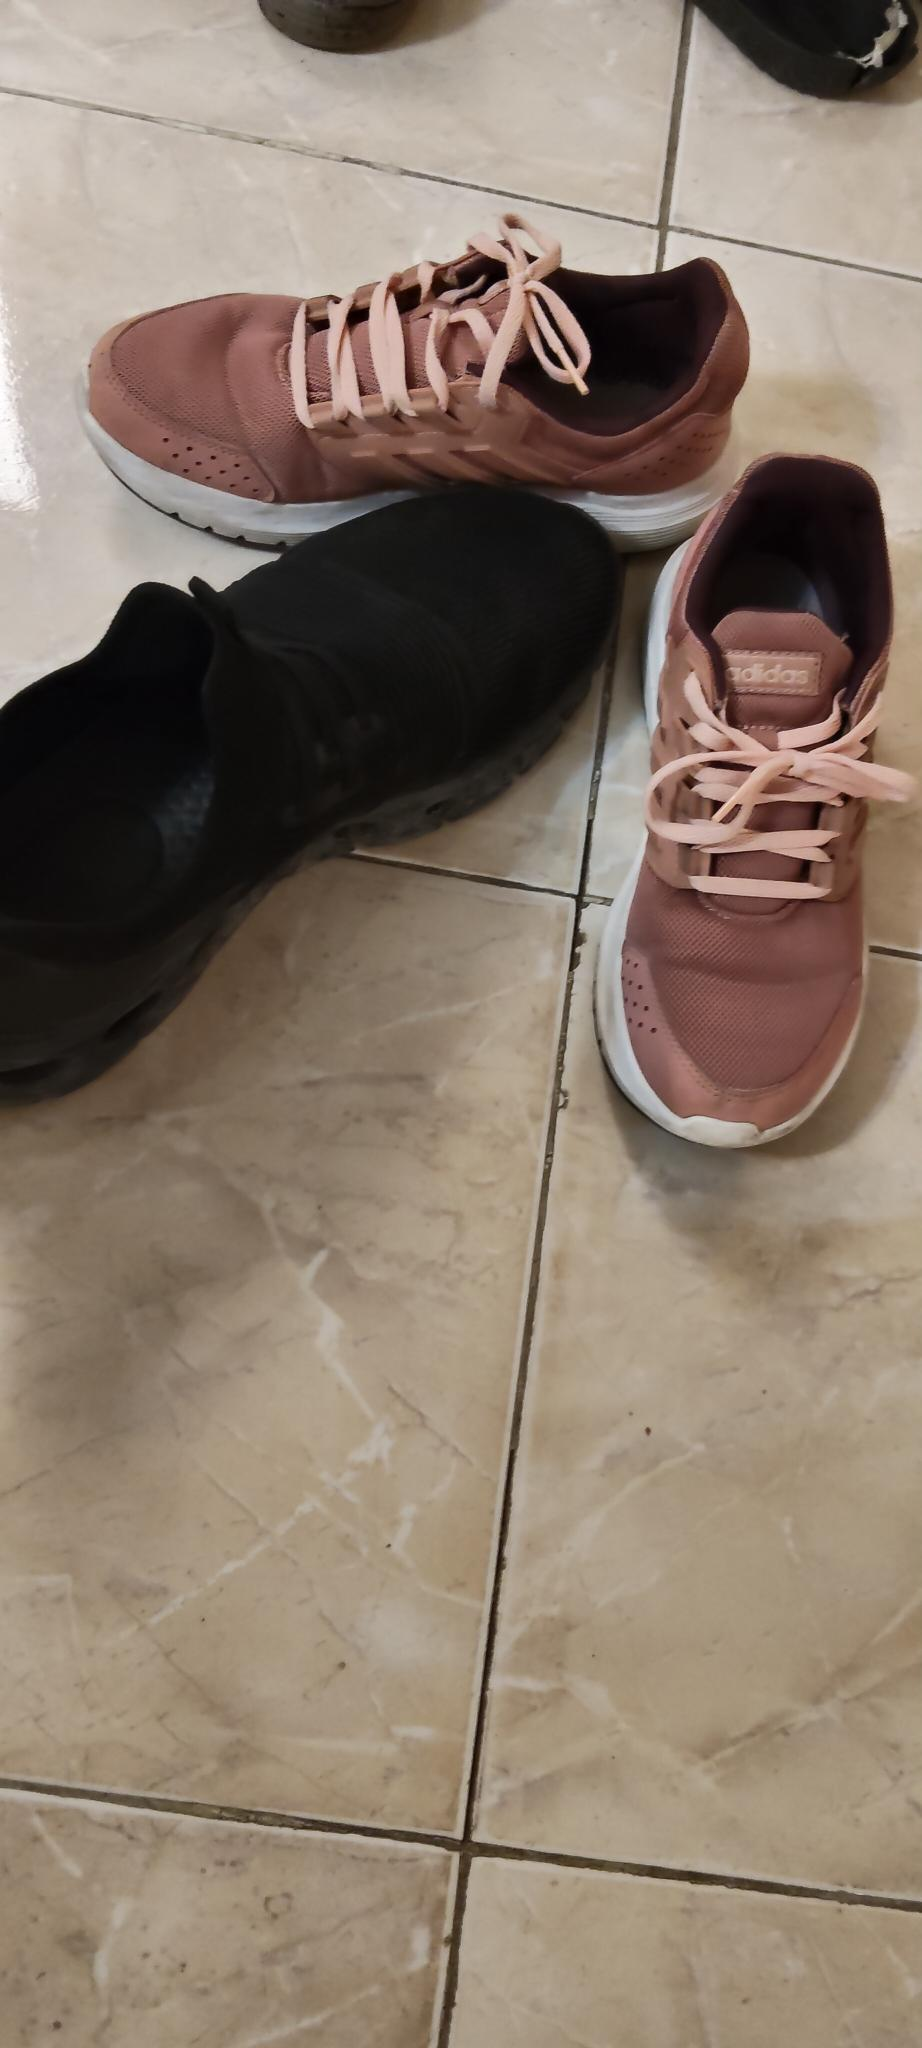Shoes: (0, 484, 623, 1103), (593, 449, 917, 1148), (82, 218, 750, 556)
